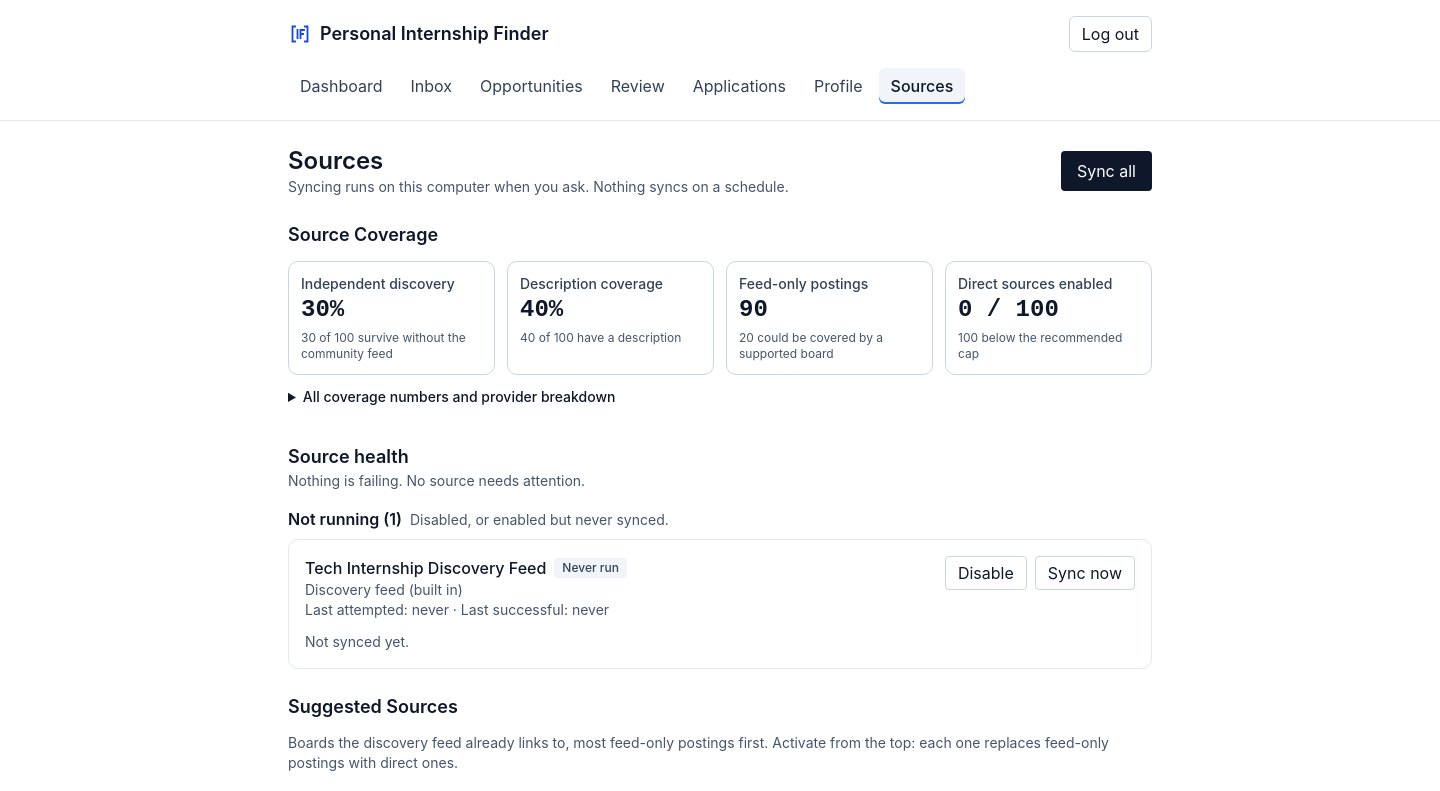
sources page › disables a source
Click the button "Disable" at (986, 573), box [945,556,1027,590]
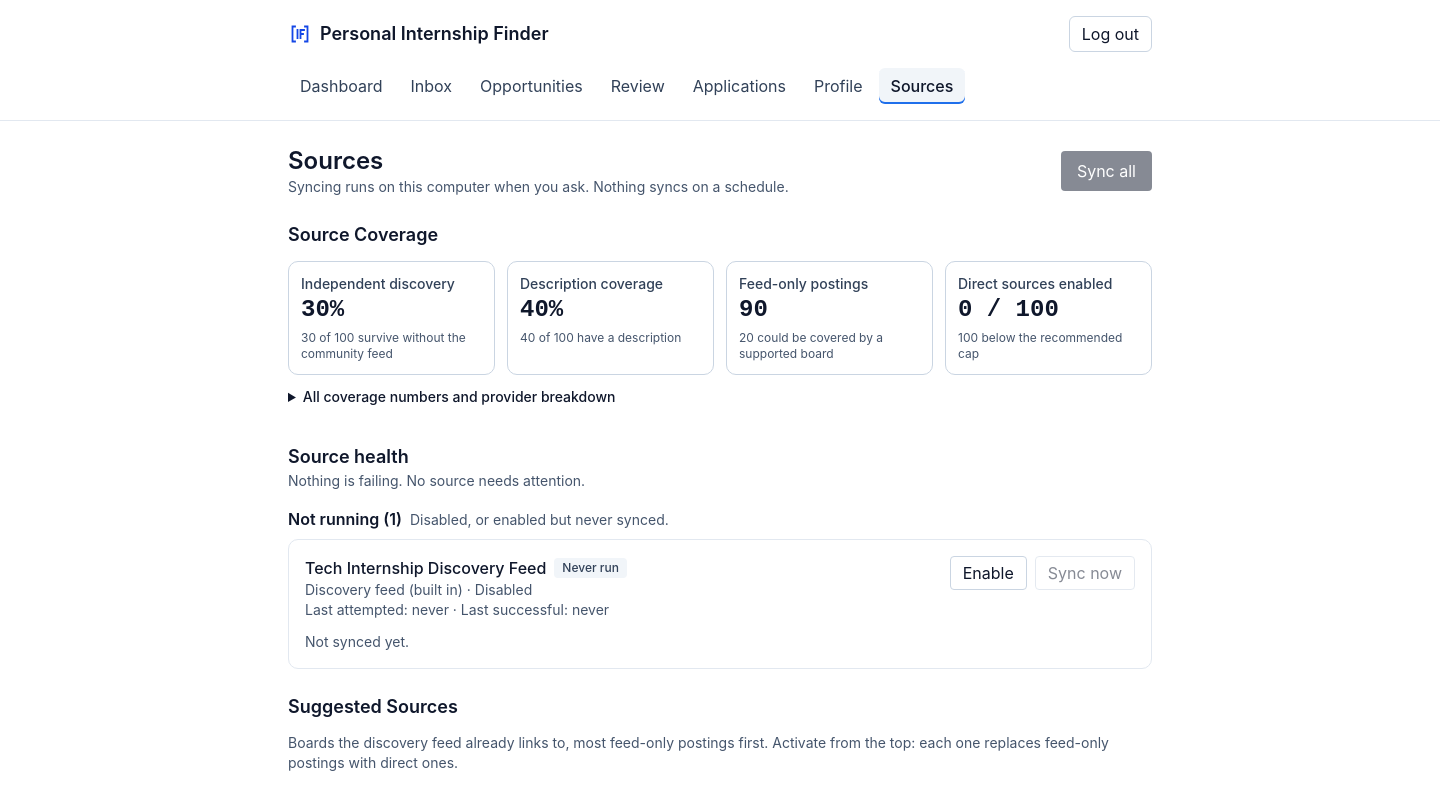
Expected: the button "Enable" is shown, [950,556,1027,590]
Expected: the button with aria-label "Sync Tech Internship Discovery Feed now" is disabled, [1035,556,1135,590]
